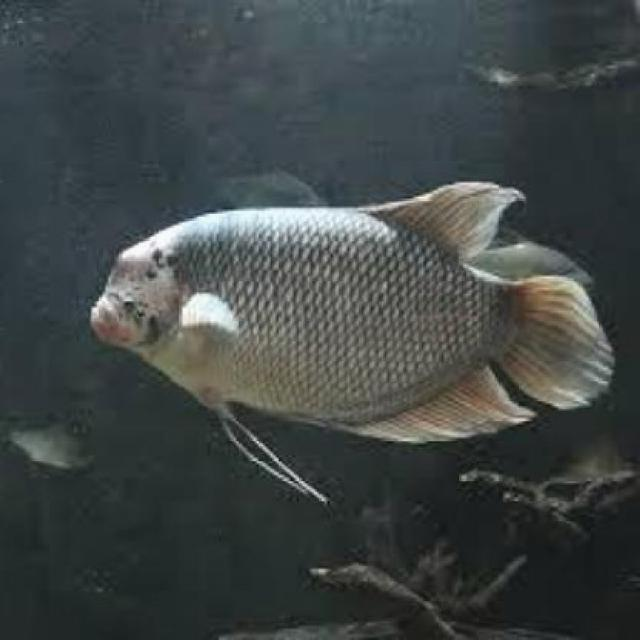gurame: (86, 181, 609, 444)
